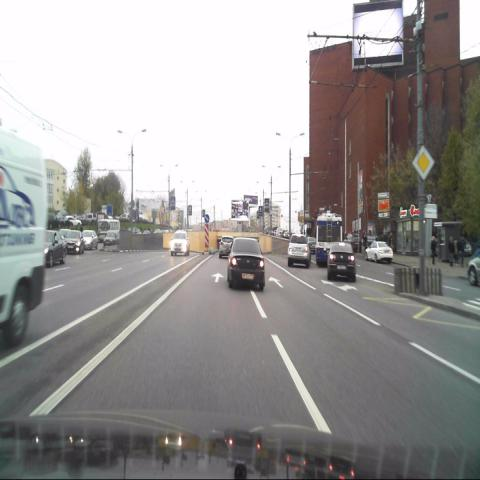2_1: (412, 144, 434, 180)
